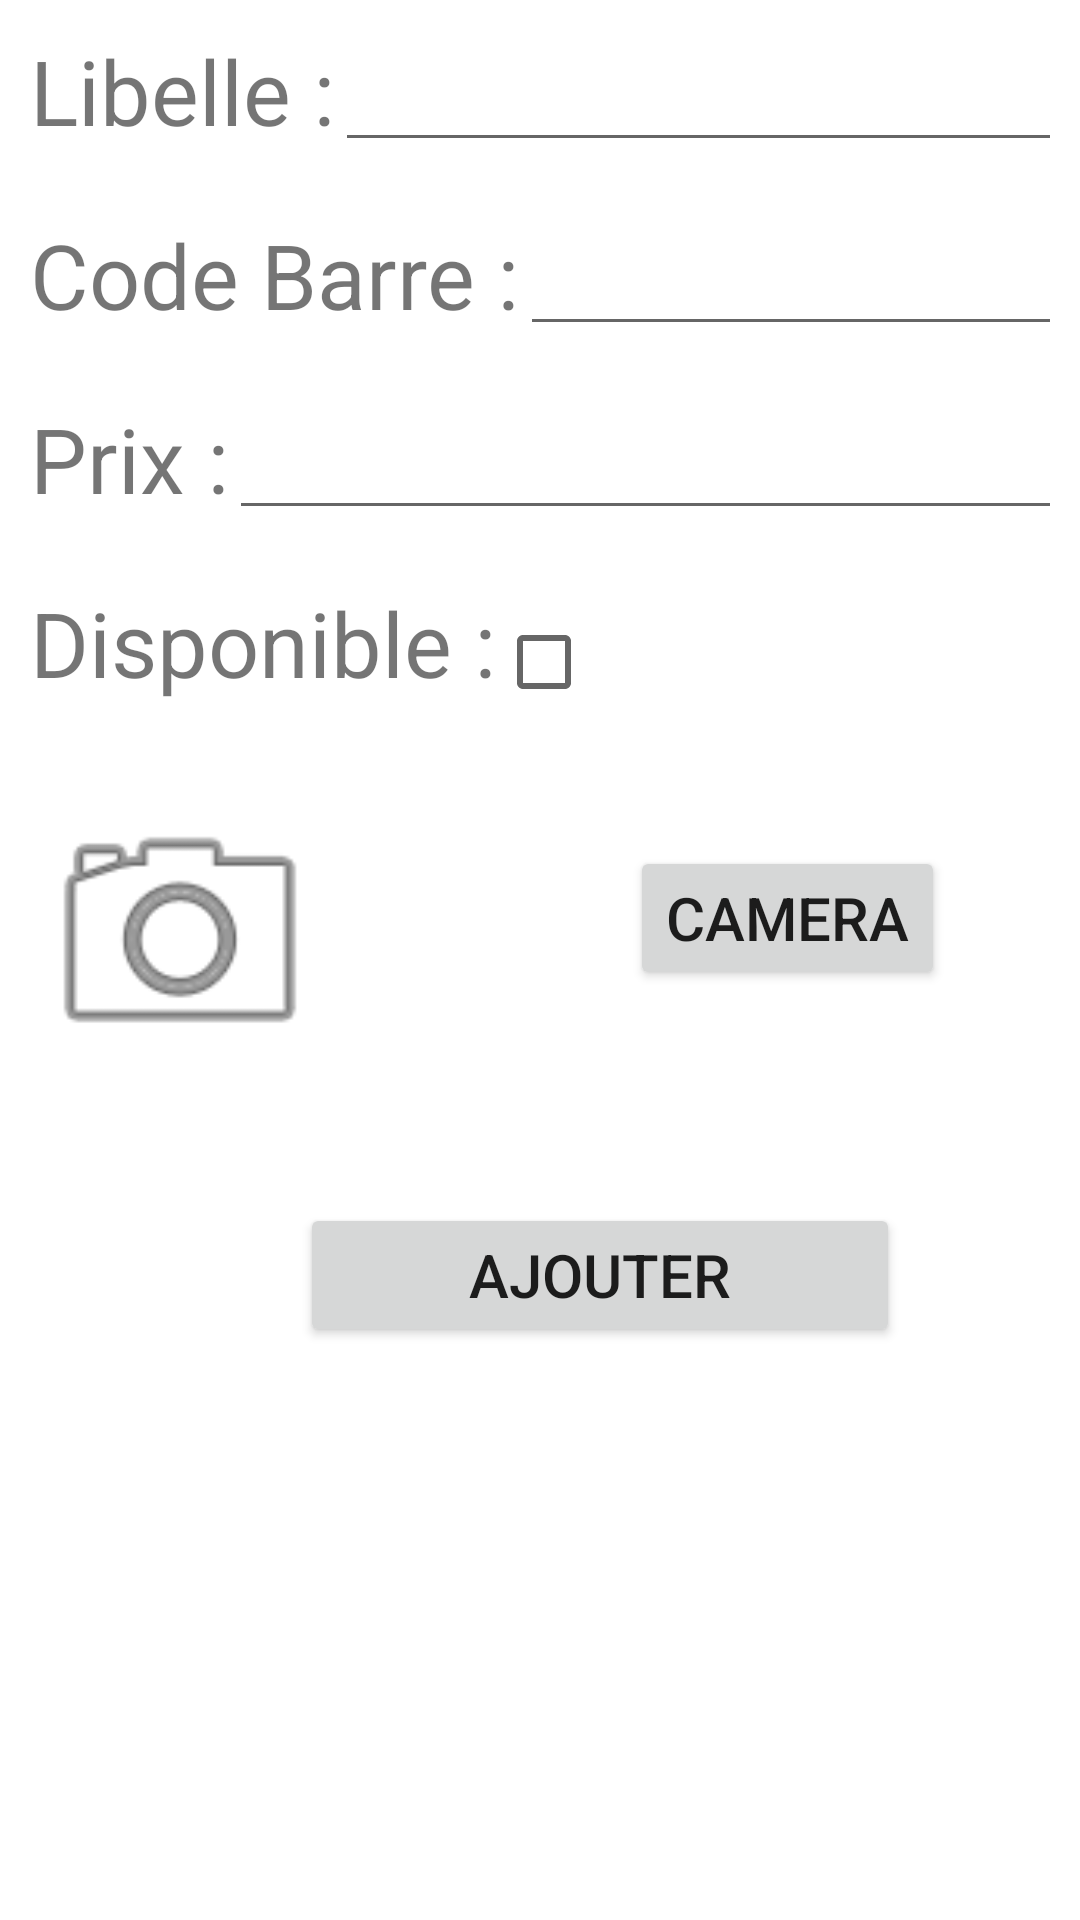

Point at icon controls on the screen. Image size 1080 x 1920, points as [x,y].
camera: [180,929]
